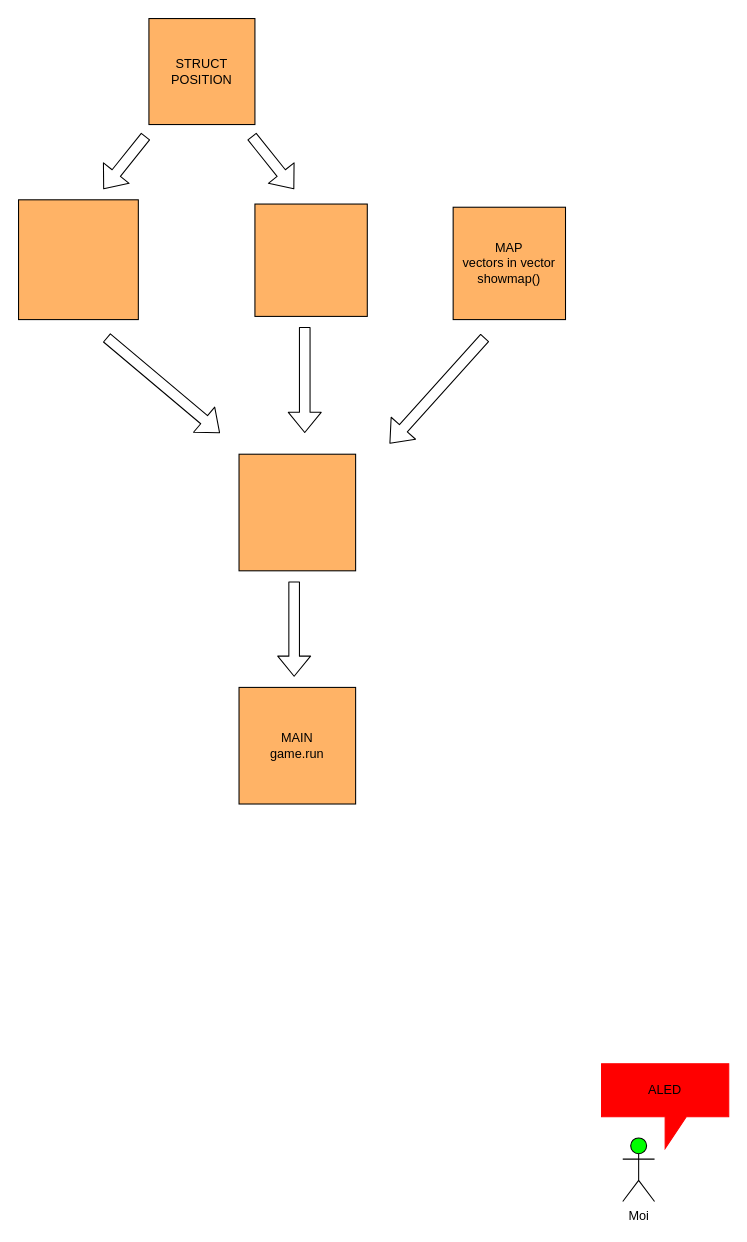
The diagram is 747 pixels wide and 1242 high, and some of its shapes have lost their labels. The shapes that lost their labels are listed below. From the top down, each one's centre as x and y in pixels, then its label:
At pixel 77 259: "PLAYER vie takePotion() addLife()".
At pixel 310 259: "POTION health point".
At pixel 297 512: "GAME game loop collisons()".
